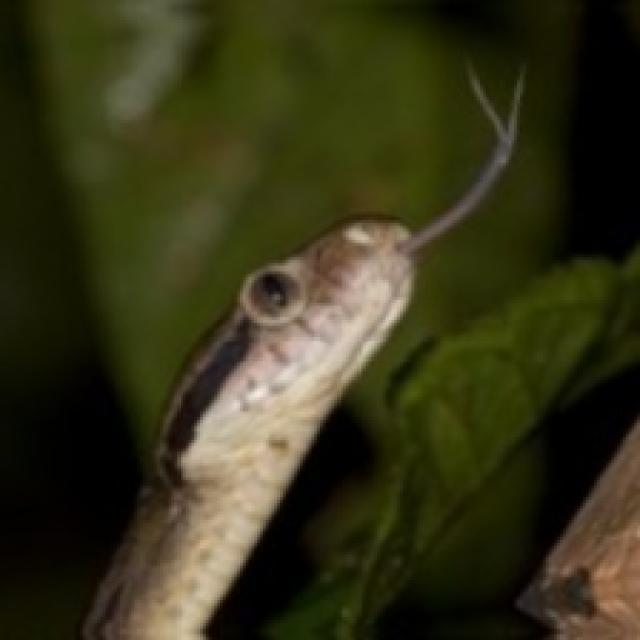dog-toothed cat snake: (83, 71, 523, 637)
